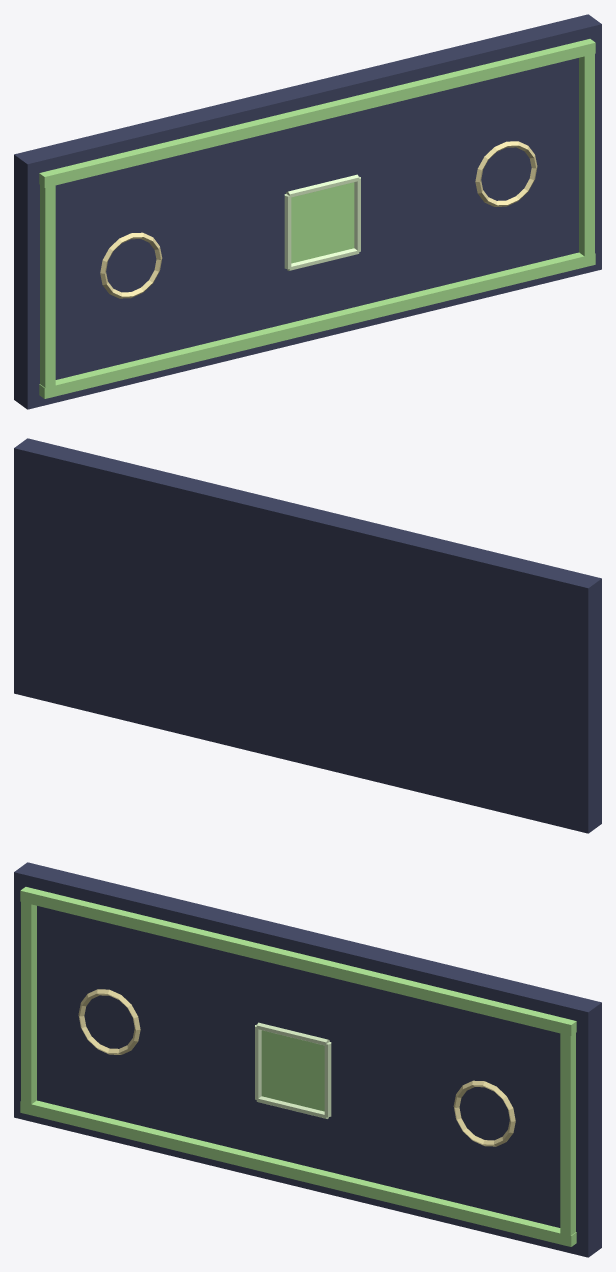
Rendered from letrero_verde.glb.
3 renders of one model, top to bottom at view 1: azimuth 30°, elevation 25°; view 2: azimuth 150°, elevation 25°; view 3: azimuth 330°, elevation 25°, orthographic.
Parts seen in each view (by area): view 1: letrero_verde; view 2: letrero_verde; view 3: letrero_verde.
Boxes of the visible parts, left/top/right/bottom form: letrero_verde: left=14, top=14, right=601, bottom=409; letrero_verde: left=14, top=438, right=601, bottom=833; letrero_verde: left=14, top=862, right=601, bottom=1257.
Size of the model in its own units: 4.9 by 2 by 0.3442.
